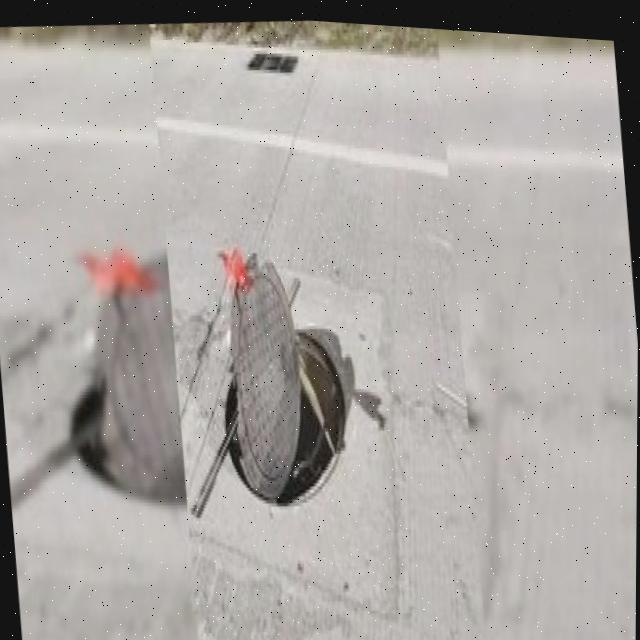manhole: (206, 239, 368, 523)
